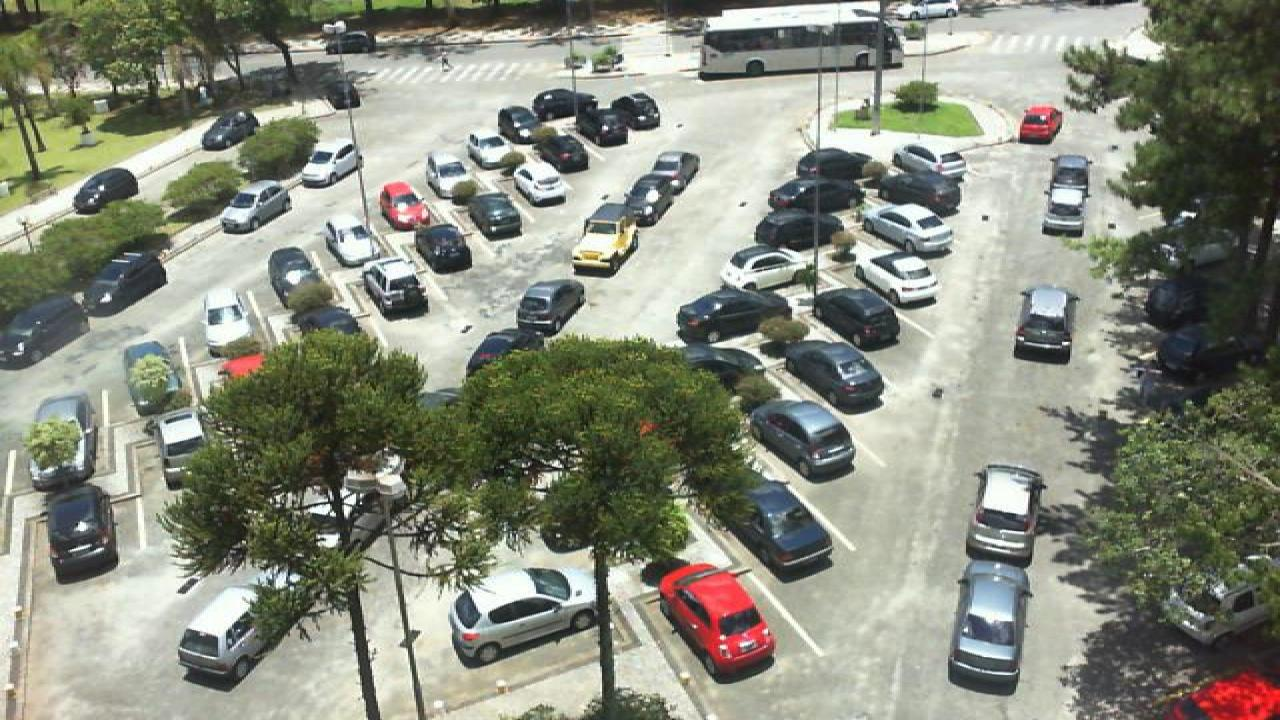Car: (648, 558, 778, 681), (450, 566, 598, 665), (946, 558, 1034, 694), (730, 479, 840, 582), (176, 583, 274, 686), (746, 396, 860, 484), (964, 463, 1048, 564), (42, 483, 122, 584), (782, 338, 888, 414), (24, 393, 98, 490), (0, 292, 92, 370), (808, 282, 906, 351), (676, 287, 790, 341), (82, 250, 170, 317), (852, 248, 946, 307), (568, 202, 642, 276), (1014, 284, 1078, 364), (1156, 322, 1248, 377), (154, 406, 214, 490), (718, 244, 818, 293), (512, 278, 588, 342), (860, 202, 956, 252), (122, 340, 184, 417), (358, 256, 430, 318), (750, 209, 854, 250), (202, 286, 262, 356), (220, 178, 294, 234), (264, 245, 332, 303), (878, 178, 970, 217), (768, 178, 864, 215), (70, 166, 142, 215), (410, 222, 474, 276), (300, 136, 364, 189), (1144, 280, 1210, 331), (622, 172, 684, 226), (462, 190, 526, 242), (888, 142, 968, 182), (524, 130, 592, 174), (506, 159, 566, 207), (794, 145, 874, 181), (326, 218, 382, 269), (374, 180, 430, 231), (198, 108, 262, 152), (422, 150, 478, 196), (642, 150, 700, 194), (1042, 186, 1092, 236), (574, 106, 632, 147), (604, 90, 662, 129), (466, 134, 524, 172), (498, 105, 550, 144), (1016, 104, 1064, 145), (532, 87, 586, 122), (1050, 153, 1094, 190)
